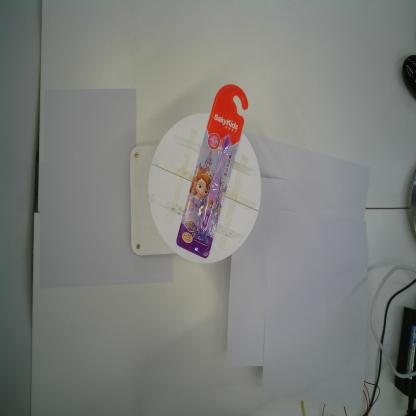Personal Hygiene: (176, 83, 249, 259)
